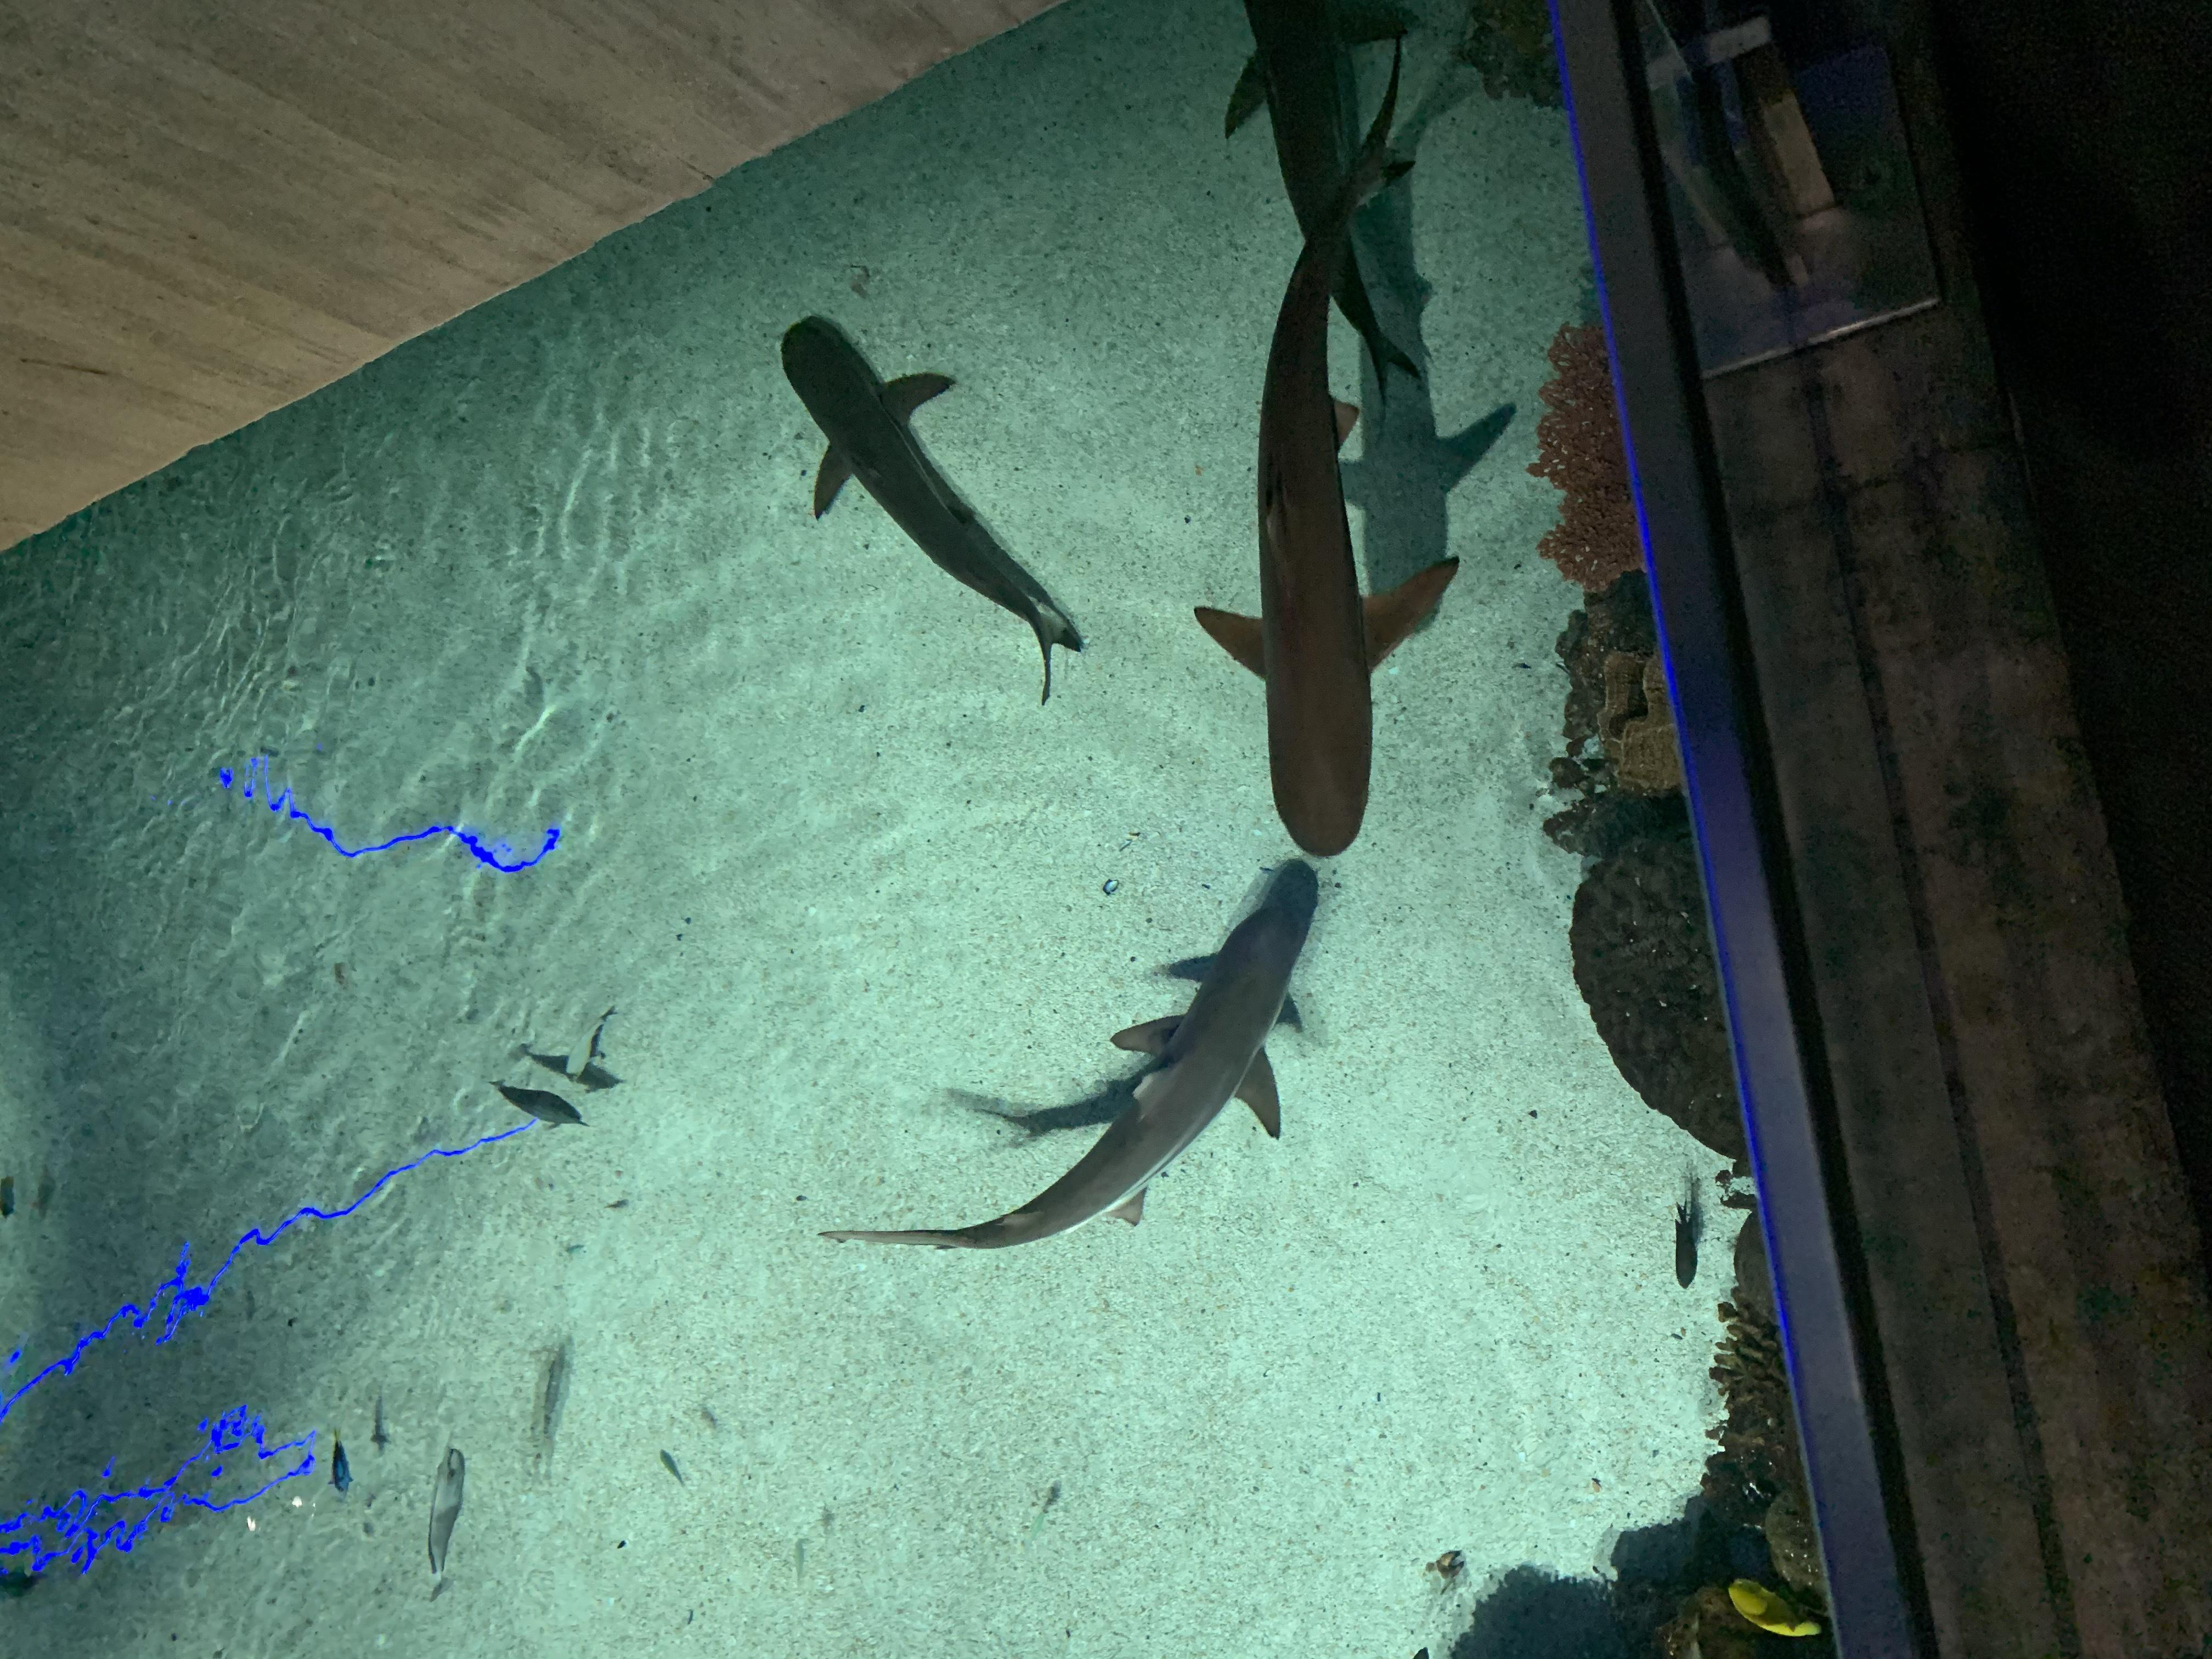fish: (1719, 1561, 1829, 1659), (415, 1427, 472, 1596), (484, 1072, 587, 1133), (1663, 1190, 1709, 1298)
shark: (1193, 0, 1463, 857), (808, 857, 1317, 1258), (777, 314, 1087, 718), (1211, 0, 1428, 432)
